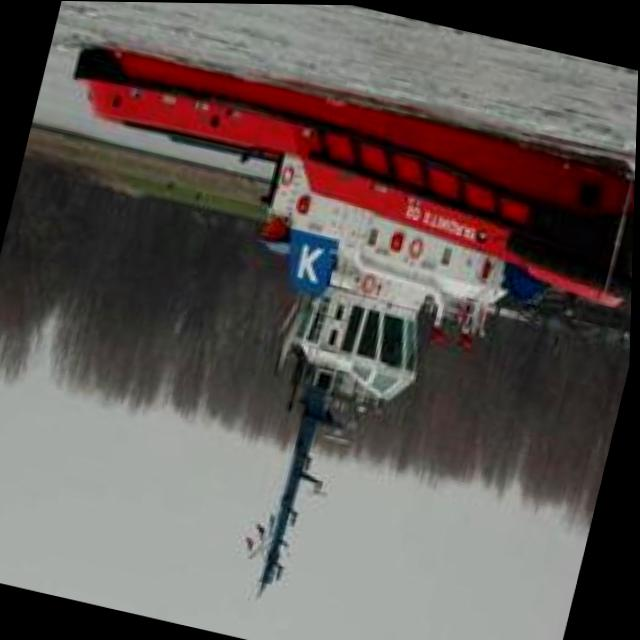ship2: (71, 41, 636, 600)
